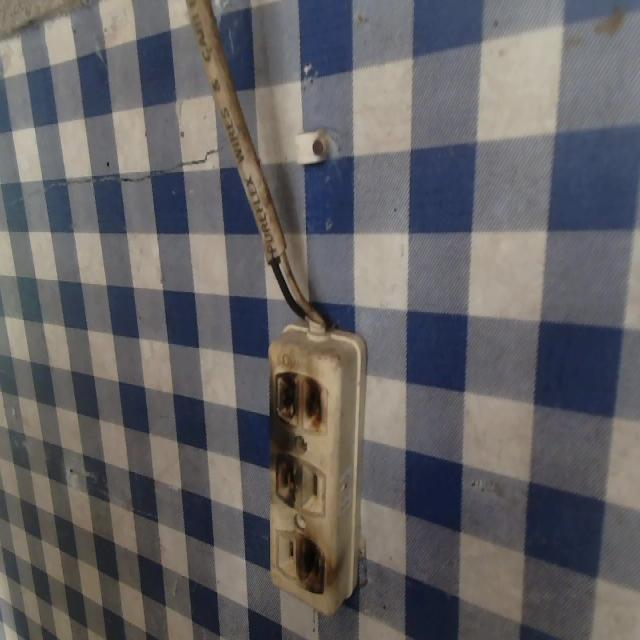-: (267, 365, 332, 436), (271, 449, 304, 519), (292, 530, 328, 594)
